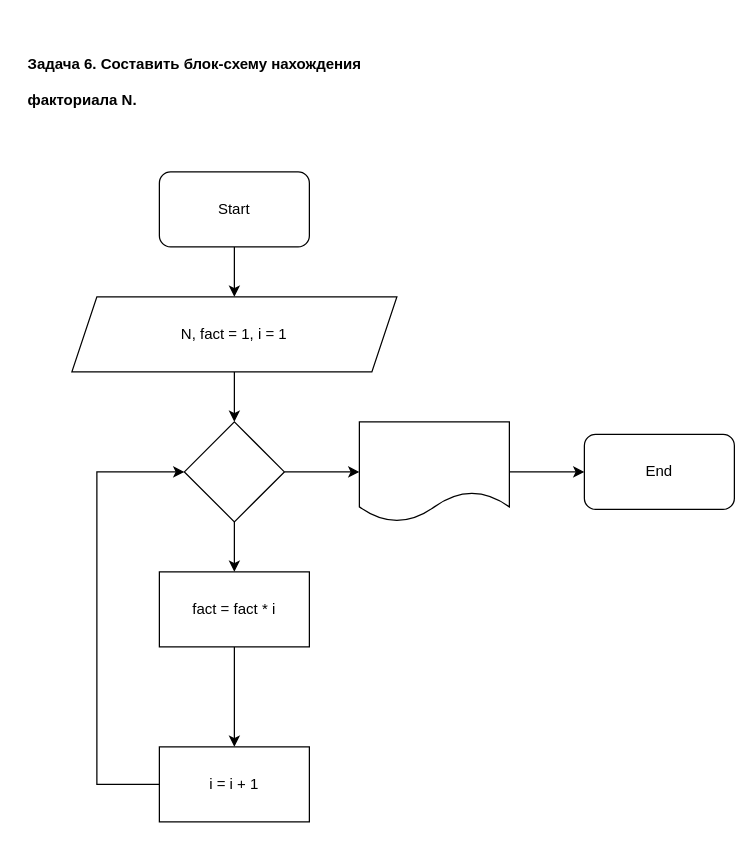
Some shapes in this 756 by 844 pixel diagram are drawn without their labels. Here are the shapes that lost their labels. From the top down, the centre of each, then its label:
the point at 233,471: i <= N
the point at 433,471: fact
